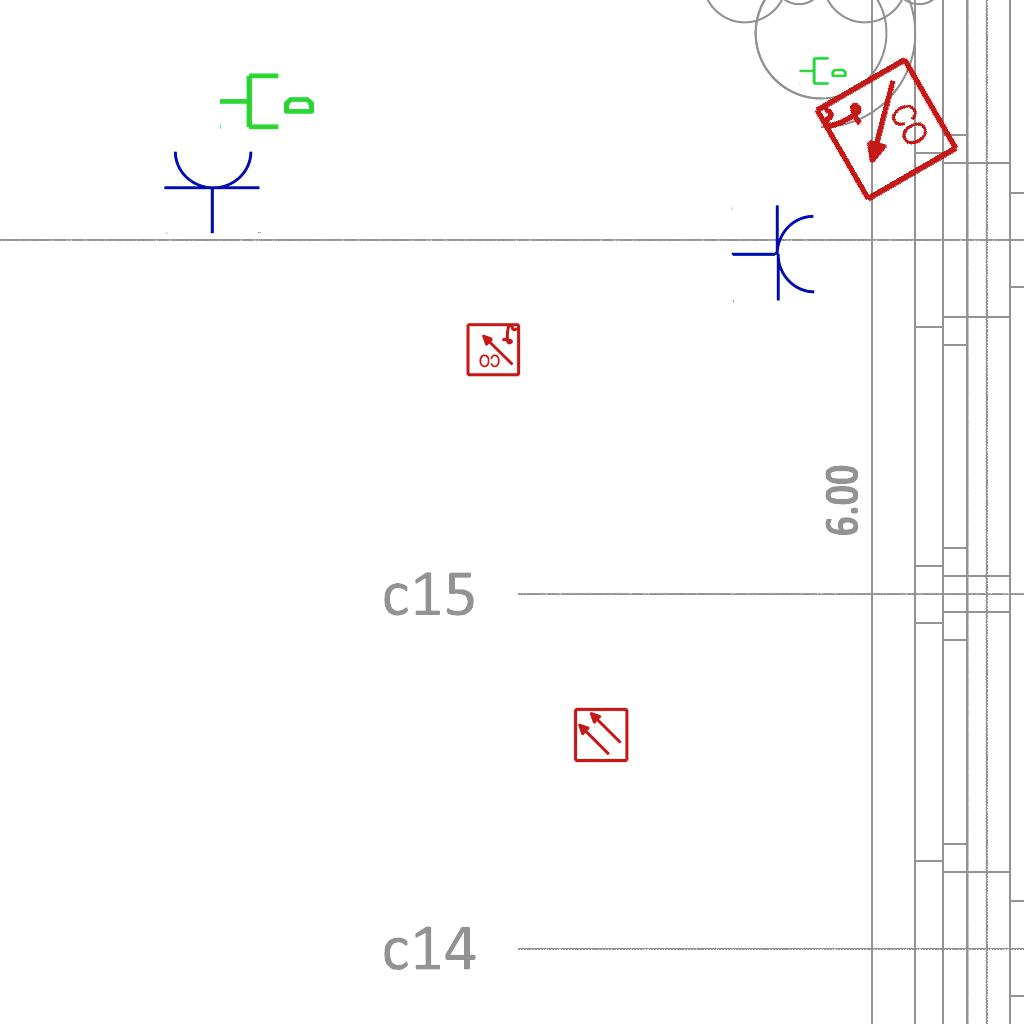Datenanschluss_einfach: (217, 65, 317, 134), (798, 53, 848, 87)
RMO_Rauchmelder_optischer: (573, 707, 629, 763)
ROA_Rauchmelder_optisch_mit_Signalgeber_(Sockelsirene): (808, 53, 963, 208), (465, 321, 521, 377)
Schukosteckdose_einfach: (730, 203, 820, 306), (163, 147, 263, 234)
